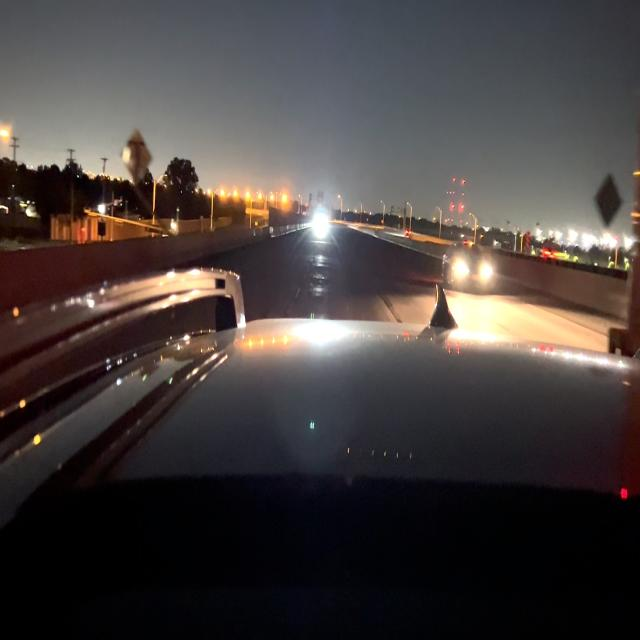back-of-sign: (121, 129, 153, 185)
